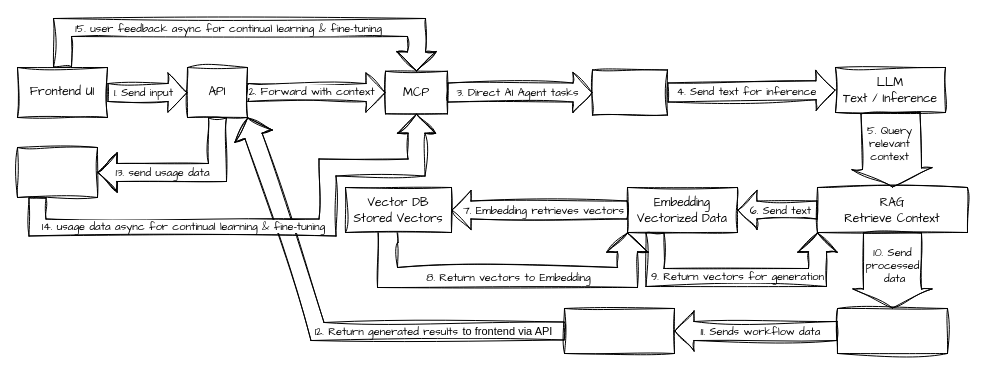
Image size: 985x372. Some labels were removed from this diagram. The box of each missing label's shape, as (x1, y1, x2, y2) in pixels:
AI Agent: (592, 69, 668, 115)
LangChain Workflow Data: (836, 308, 948, 354)
Langfuse Orchestration: (564, 308, 674, 354)
Monitoring: (16, 146, 98, 198)
